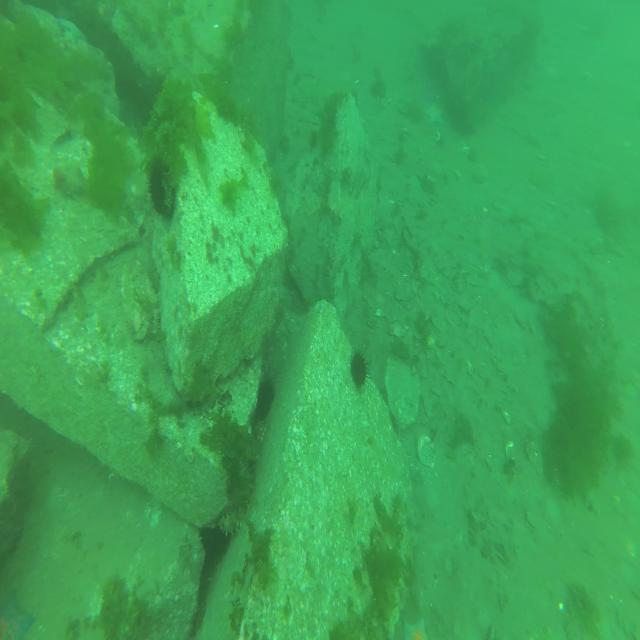echinus: (145, 158, 179, 221), (349, 347, 373, 391), (256, 378, 276, 419)
holothurian: (219, 505, 245, 538), (152, 308, 161, 335)
scallop: (417, 434, 437, 469)
starfish: (1, 593, 34, 639), (403, 612, 430, 640), (425, 102, 444, 124)
